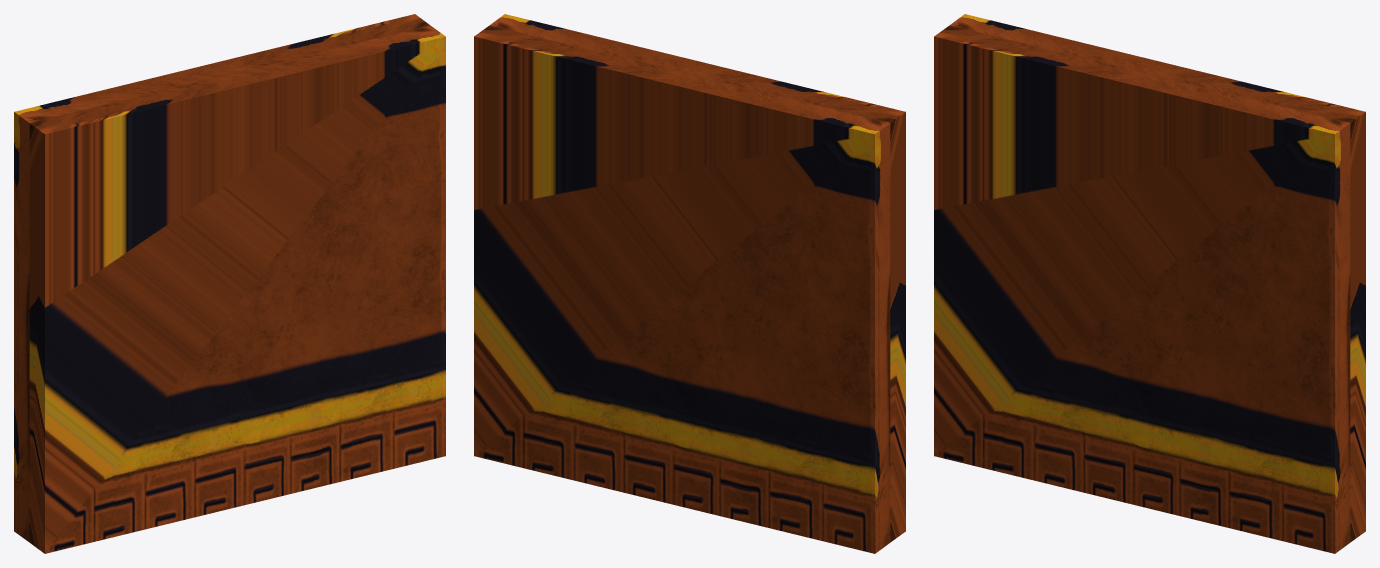
The model's file is DoubleWall.fbx.
3 renders of one model, left to right at view 1: azimuth 30°, elevation 25°; view 2: azimuth 150°, elevation 25°; view 3: azimuth 330°, elevation 25°, orthographic.
Parts seen in each view (by area): view 1: Wall Low; view 2: Wall Low; view 3: Wall Low.
Boxes of the visible parts, x1=… form: Wall Low: x1=14, y1=14, x2=445, y2=553; Wall Low: x1=474, y1=14, x2=905, y2=553; Wall Low: x1=934, y1=14, x2=1365, y2=553.
Bounding box in the file's own units: 223 × 223 × 29.7.
